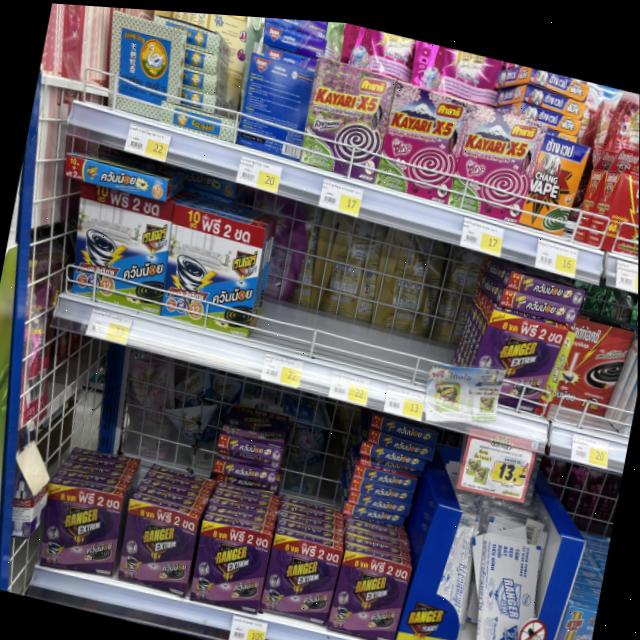empty_shelf: (252, 222, 490, 394)
